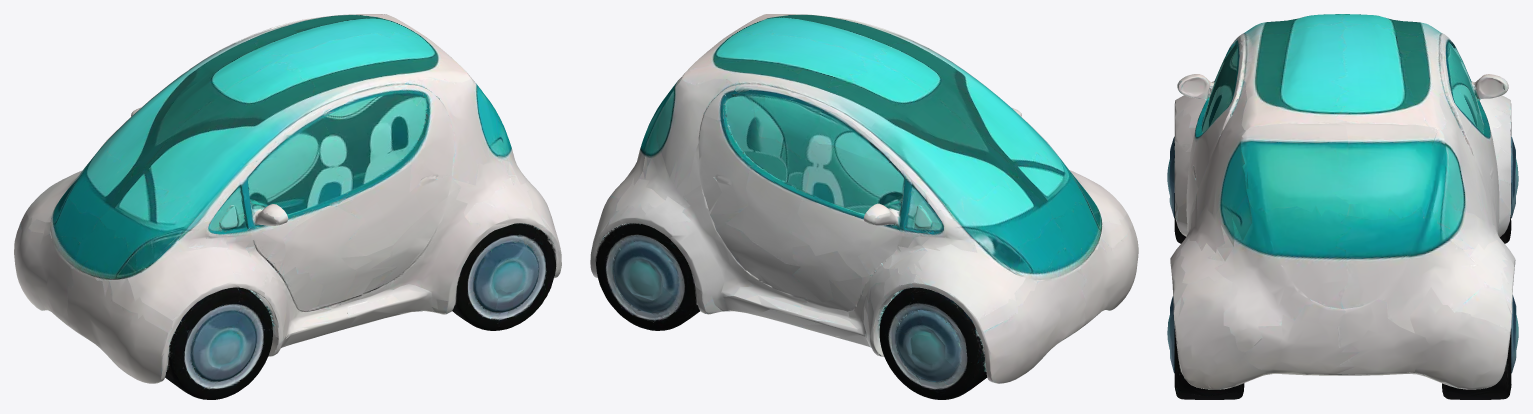
Rendered from car.glb.
3 renders of one model, left to right at view 1: azimuth 30°, elevation 25°; view 2: azimuth 150°, elevation 25°; view 3: azimuth 270°, elevation 25°, orthographic. The views are drawn at different scales.
Size of the model in its own units: 1.9 by 1.09 by 1.19.
Materials: 1 (1 with a texture image).
